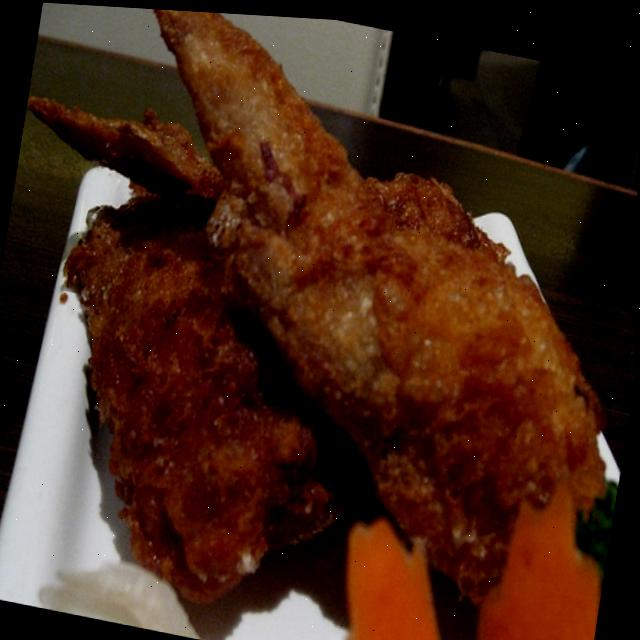鸡肉料理 含炸鸡: (7, 1, 640, 640)
